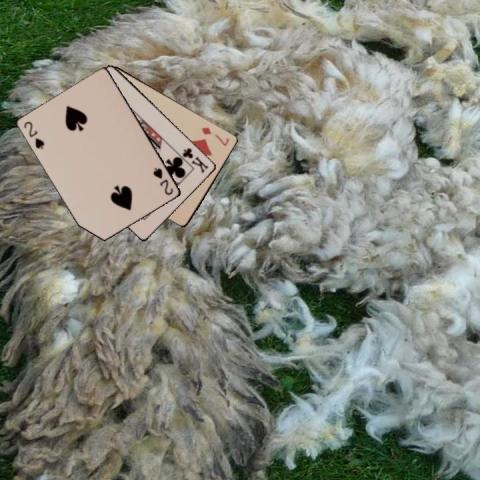2s: (150, 164, 175, 196), (21, 118, 46, 150)
7d: (198, 124, 230, 147)
Kc: (179, 145, 210, 174)
